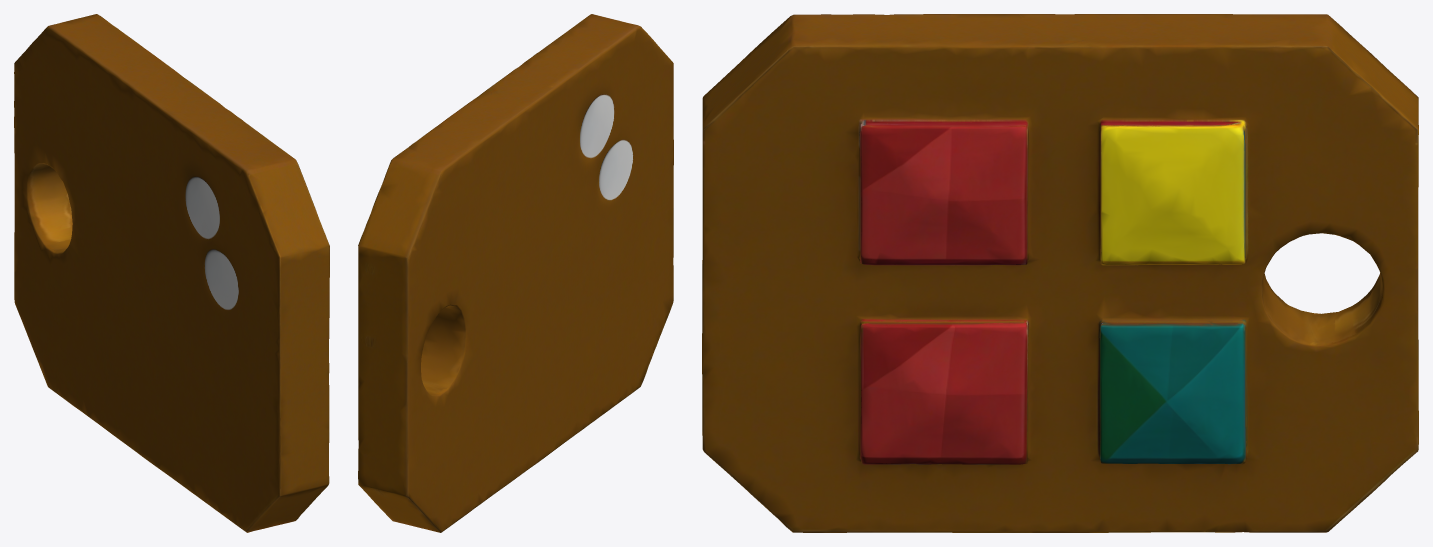
The model's file is Model_Paleta.fbx.
3 renders of one model, left to right at view 1: azimuth 30°, elevation 25°; view 2: azimuth 150°, elevation 25°; view 3: azimuth 270°, elevation 25°, orthographic. The views are drawn at different scales.
Parts seen in each view (by area): view 1: Mesh1.0; view 2: Mesh1.0; view 3: Mesh1.0.
Part boxes in pixels (bbox=[...]): Mesh1.0: bbox=[14, 14, 329, 532]; Mesh1.0: bbox=[358, 14, 673, 532]; Mesh1.0: bbox=[702, 14, 1418, 532].
Size of the model in its own units: 28.91 by 151 by 201.
Materials: 1 (1 with a texture image).
